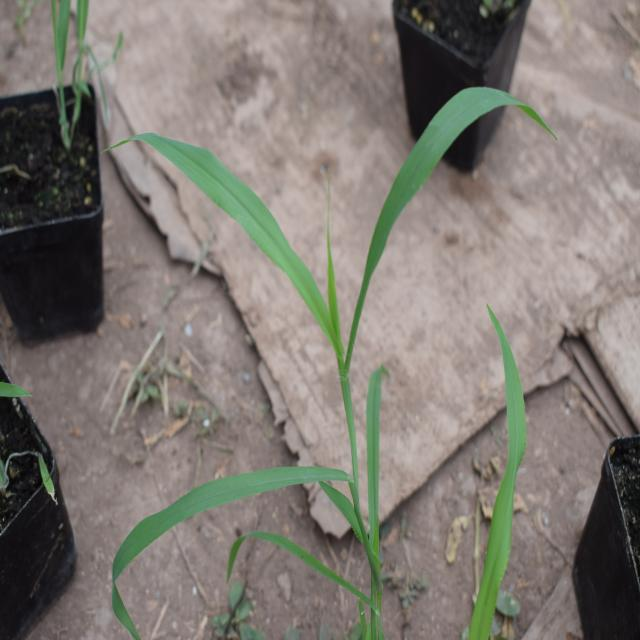crabgrass: (115, 61, 514, 578)
